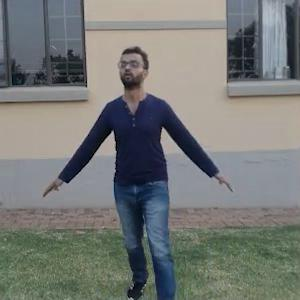land: (61, 38, 248, 284)
